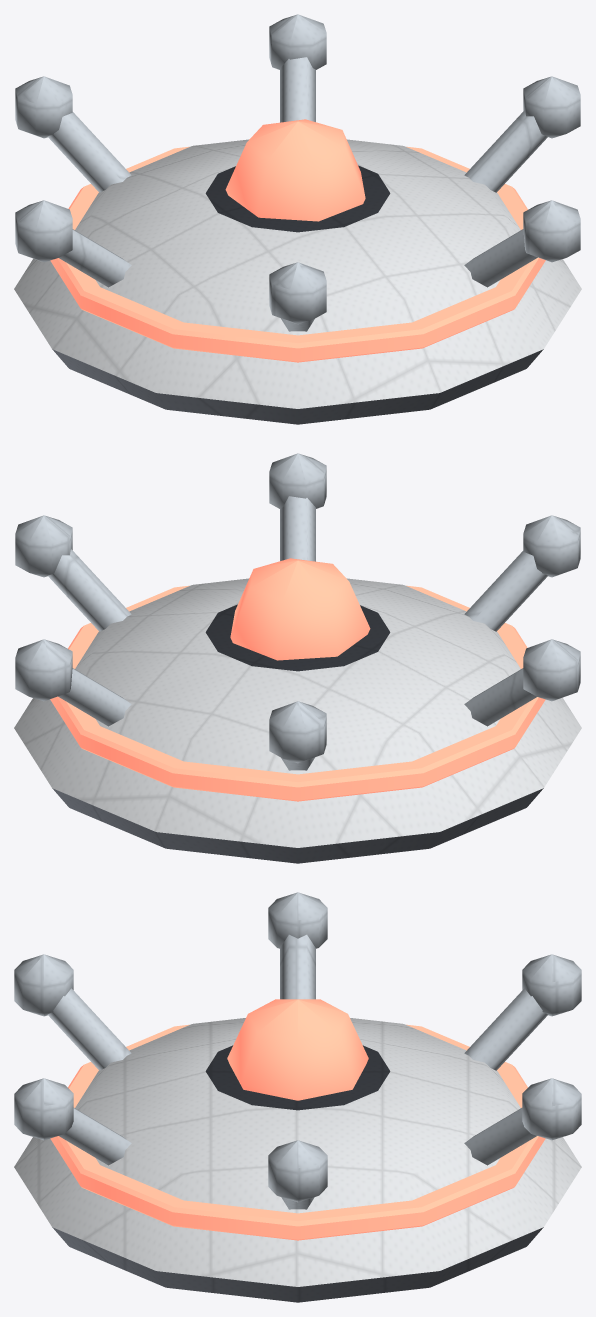
Rendered from R4D_ExplosiveTrap_LOD1.glb.
3 renders of one model, top to bottom at view 1: azimuth 30°, elevation 25°; view 2: azimuth 150°, elevation 25°; view 3: azimuth 270°, elevation 25°, orthographic.
Visible parts, largest first — view 1: R4D_ExplosiveTrap_LOD1; view 2: R4D_ExplosiveTrap_LOD1; view 3: R4D_ExplosiveTrap_LOD1.
Part boxes in pixels (x1,y1,x2,y2): R4D_ExplosiveTrap_LOD1: [14, 14, 581, 424]; R4D_ExplosiveTrap_LOD1: [14, 453, 581, 863]; R4D_ExplosiveTrap_LOD1: [14, 892, 581, 1302].
Bounding box in the file's own units: 0.489 × 0.16 × 0.43.
Materials: 5 (4 with a texture image).
